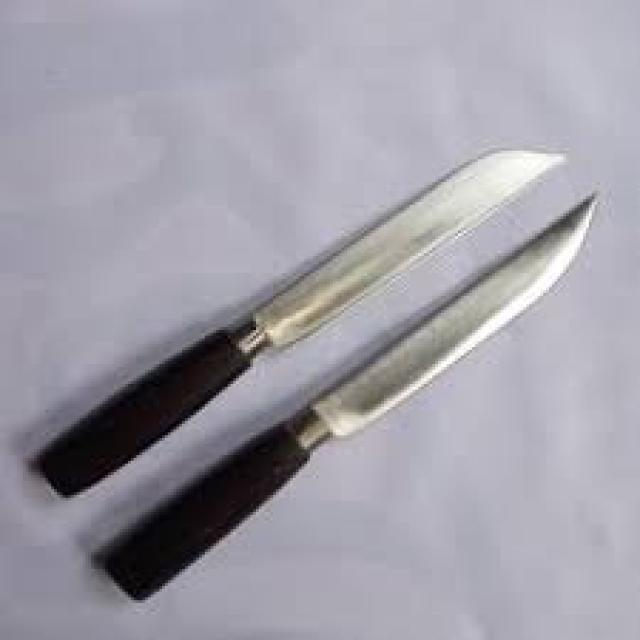Knife: (105, 193, 597, 597), (34, 148, 563, 495)
